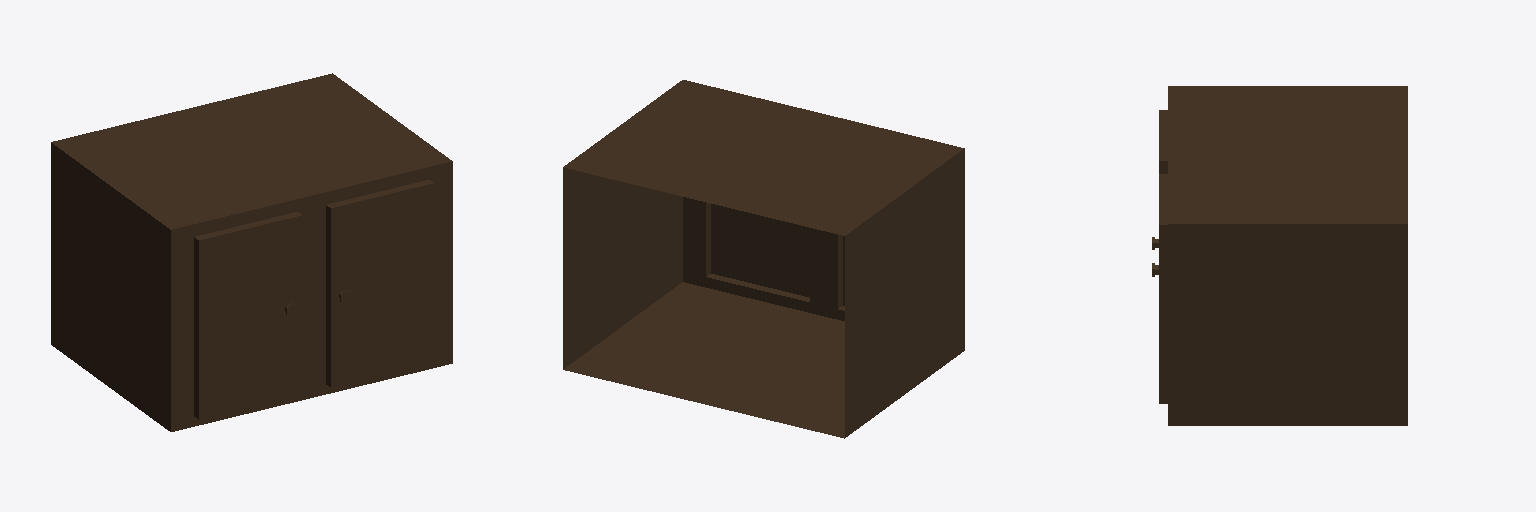
Rendered from overhead_cupboard.obj.
The picture shows the model from 3 angles: view 1: azimuth 30°, elevation 25°; view 2: azimuth 150°, elevation 25°; view 3: azimuth 270°, elevation 25°; orthographic projection.
Visible parts, largest first — view 1: Overhead_cupboard_Plane.010; view 2: Overhead_cupboard_Plane.010; view 3: Overhead_cupboard_Plane.010.
Boxes of the visible parts, <box> form: Overhead_cupboard_Plane.010: <box>51,73,452,431</box>; Overhead_cupboard_Plane.010: <box>563,80,964,438</box>; Overhead_cupboard_Plane.010: <box>1152,86,1407,425</box>.
Size of the model in its own units: 8.35 by 5.73 by 6.59.